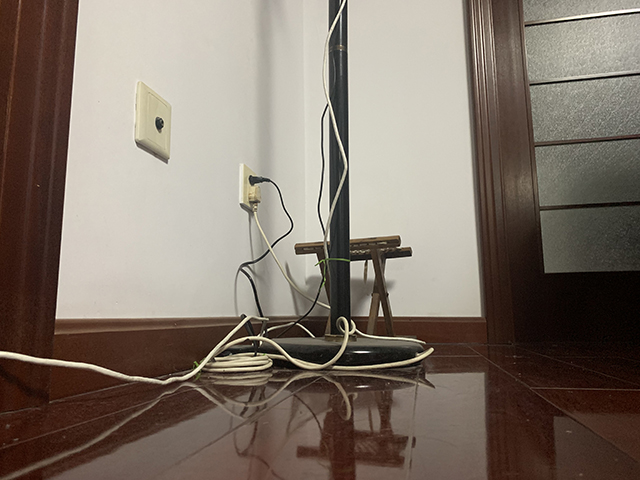stool: (293, 234, 414, 337)
wire: (187, 169, 295, 387), (297, 305, 442, 374)
